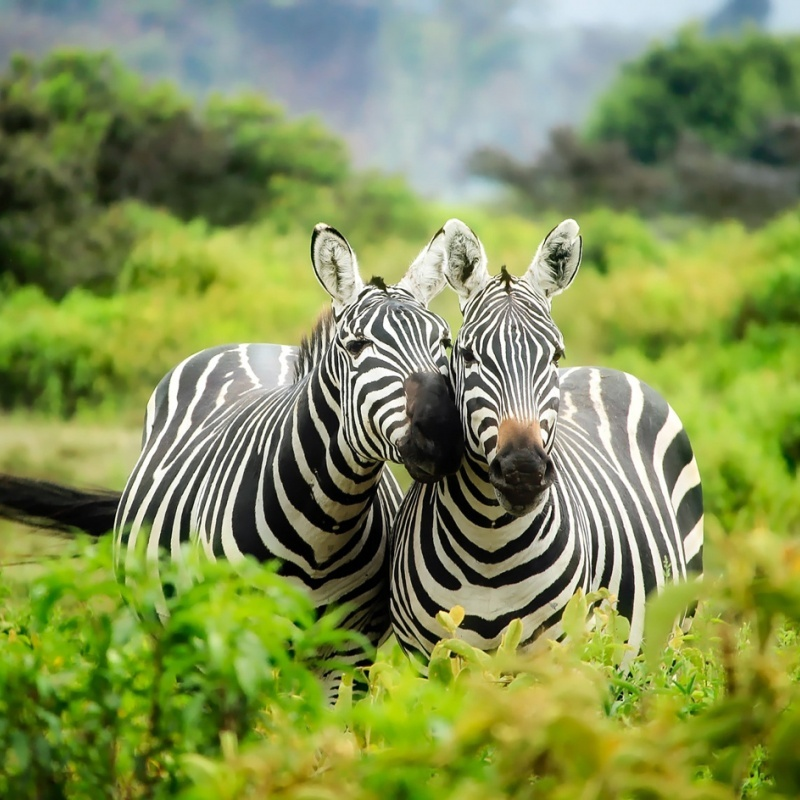zebra: (113, 210, 463, 690), (390, 217, 705, 677)
